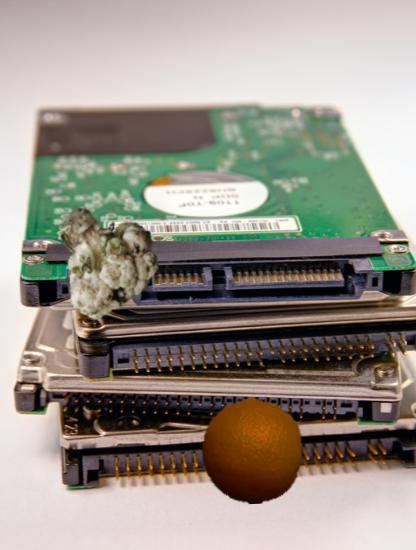Cauliflower: (45, 201, 157, 313)
Orange: (199, 399, 305, 505)
